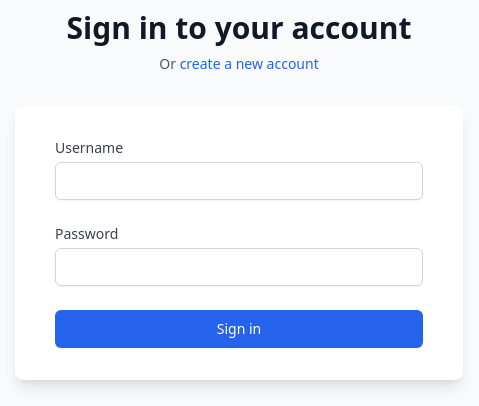
Scenario: LoginPage › should disable submit button while submitting
Step 1. Type "testuser" into the field labelled "Username" → (239, 181), box [55,162,423,200]
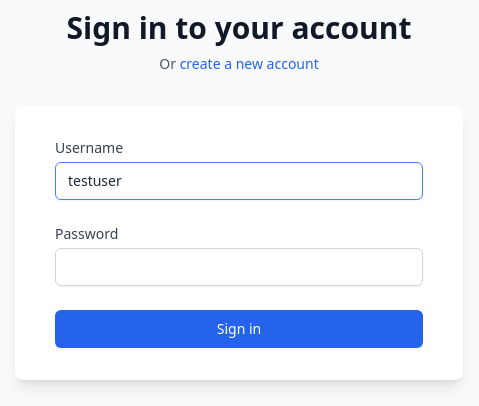
Step 2. Type "password123" into the password field labelled "Password" → (239, 267), box [55,248,423,286]
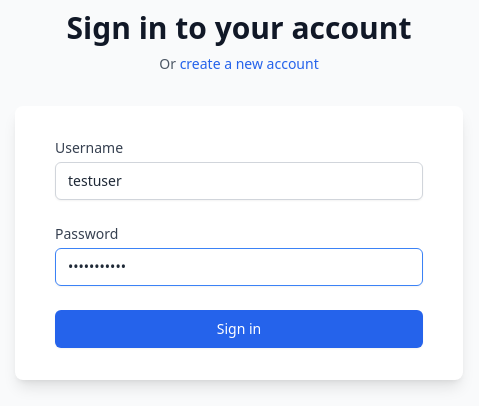
Step 3. Click the button "Sign in" → (239, 329), box [55,310,423,348]
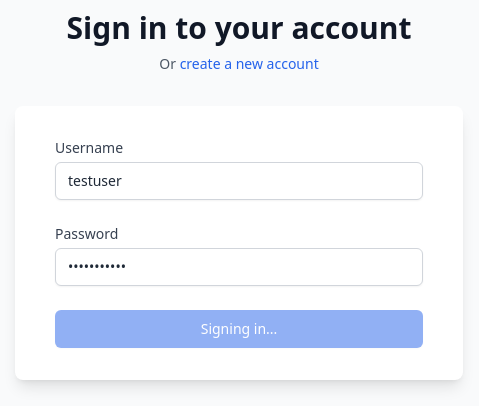
Expected: the button named "sign in" is disabled, [55,310,423,348]
